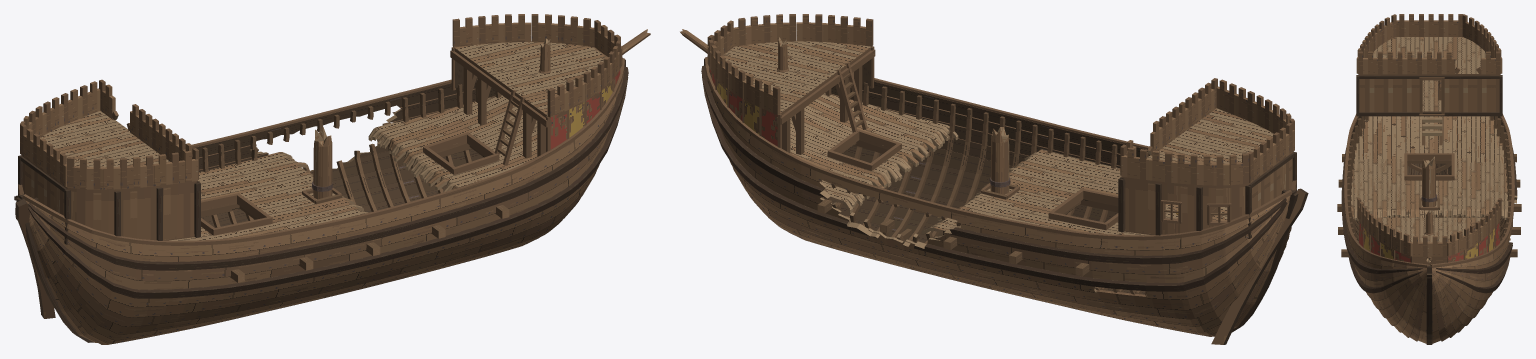
The picture shows the model from 3 angles, left to right: view 1: azimuth 30°, elevation 25°; view 2: azimuth 150°, elevation 25°; view 3: azimuth 270°, elevation 25°; orthographic projection. The views are drawn at different scales.
Parts seen in each view (by area): view 1: matte_CogHull; view 2: matte_CogHull; view 3: matte_CogHull.
Boxes of the visible parts, x1,y1,x2,y2 form: matte_CogHull: [14, 14, 650, 344]; matte_CogHull: [680, 14, 1308, 344]; matte_CogHull: [1337, 14, 1521, 344].
Size of the model in its own units: 23.17 by 7.42 by 7.88.
Materials: 1 (1 with a texture image).
